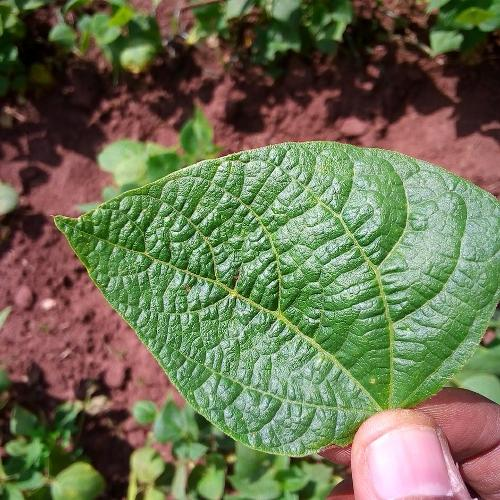sehat: (135, 169, 472, 387)
